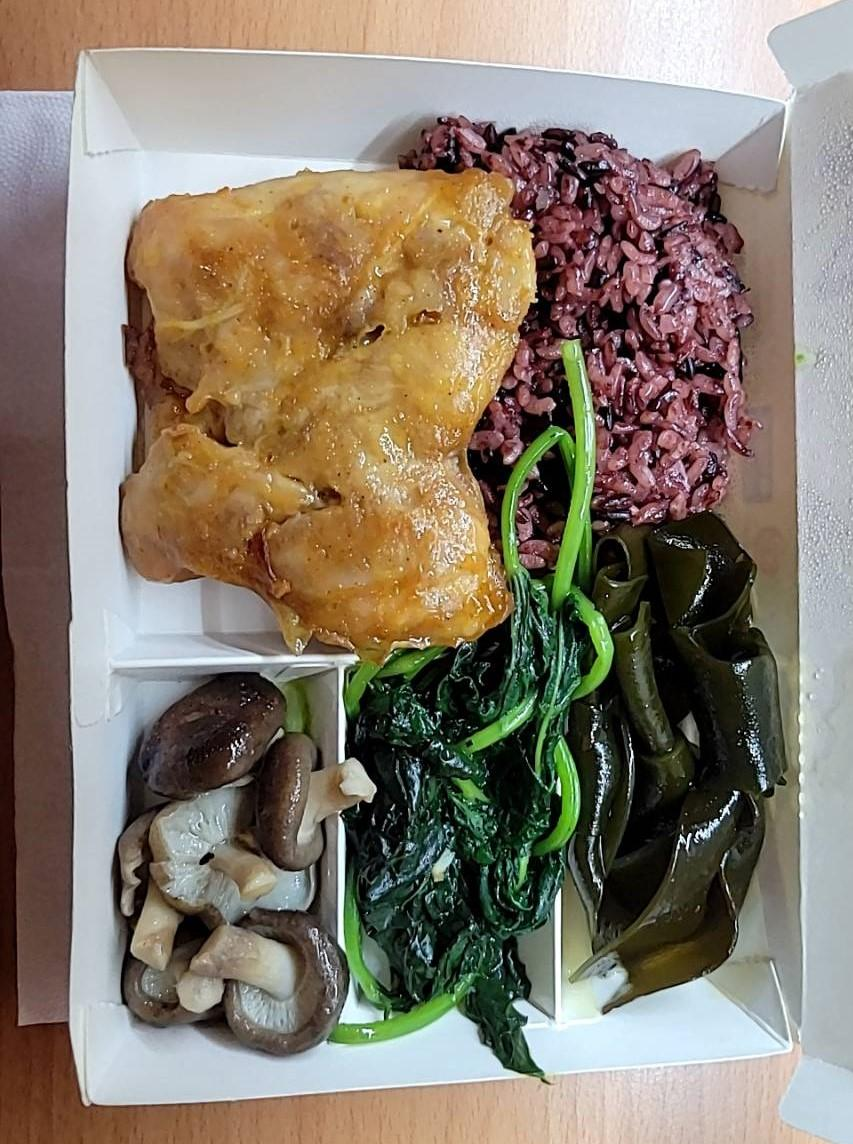big grilled chicken leg: (55, 15, 817, 1125)
braised fish: (401, 101, 759, 581)
braised fish fillet: (563, 510, 785, 1001), (345, 605, 583, 1049), (98, 675, 363, 1063)
braised pork: (87, 155, 550, 661)
